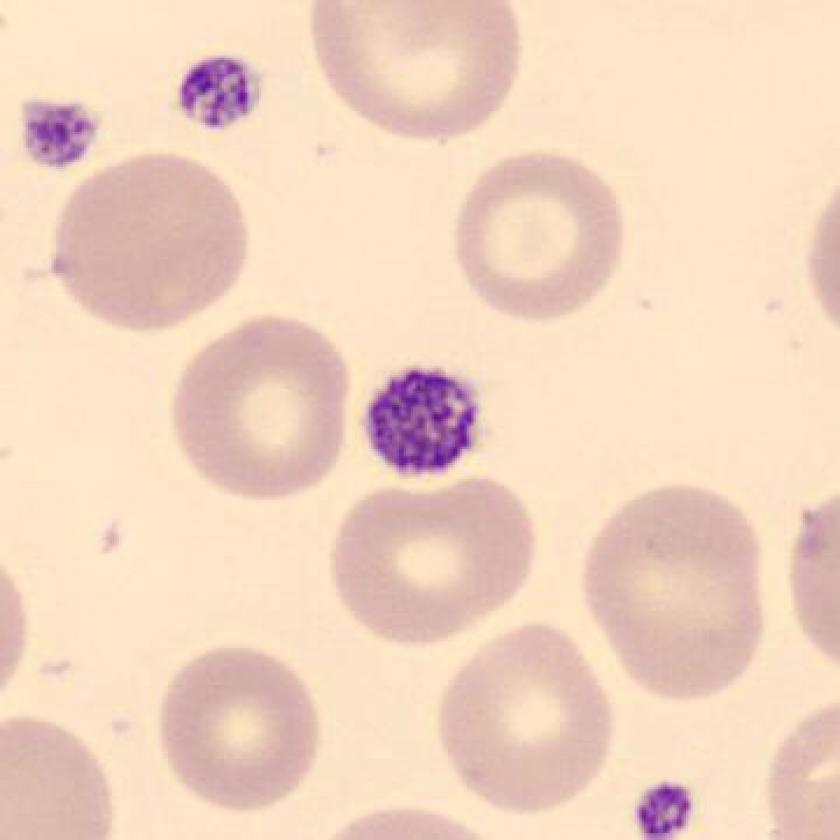platelets: (358, 355, 493, 485), (169, 47, 272, 142), (15, 89, 111, 181), (627, 776, 711, 840)
